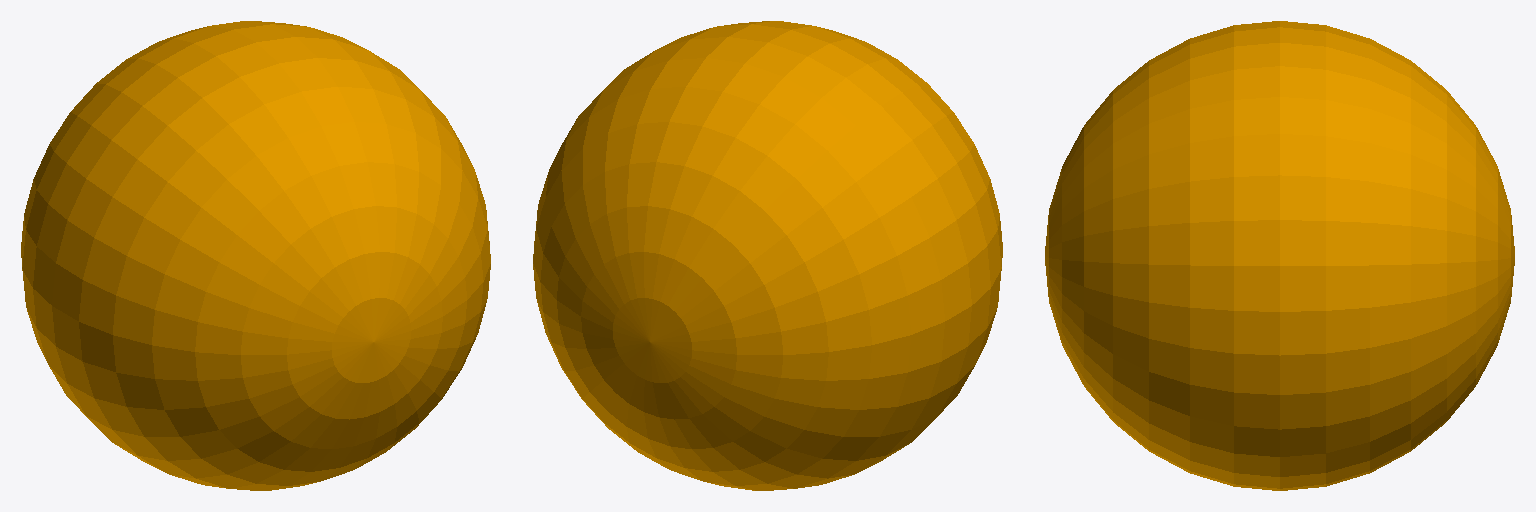
URDF robot description (lbr_iiwa):
<?xml version="1.0" ?>
<robot name="lbr_iiwa" xmlns:xacro="http://www.ros.org/wiki/xacro">
  <!-- Import Rviz colors -->
  <material name="Grey">
    <color rgba="0.2 0.2 0.2 1.0"/>
  </material>
  <material name="LightGrey">
    <color rgba="0.6 0.6 0.6 1.0"/>
  </material>
  <material name="Blue">
    <color rgba="0.5 0.7 1.0 1.0"/>
  </material>
  <material name="Orange">
    <color rgba="1.0 0.423529411765 0.0392156862745 1.0"/>
  </material>
  <!--Import the lbr iiwa macro -->
  <!--Import Transmissions -->
  <!--Include Utilities -->
  <!--The following macros are adapted from the LWR 4 definitions of the RCPRG - https://github.com/RCPRG-ros-pkg/lwr_robot -->
  <!--Little helper macros to define the inertia matrix needed for links.-->
  <!--Cuboid-->
  <!--Cylinder: length is along the y-axis! -->
  <!--lbr-->
  <link name="lbr_iiwa_link_0">
    <inertial>
      <origin rpy="0 0 0" xyz="-0.1 0 0.07"/>
      <!--Increase mass from 5 Kg original to provide a stable base to carry the
          arm.-->
      <mass value="0.01"/>
      <inertia ixx="0.05" ixy="0" ixz="0" iyy="0.06" iyz="0" izz="0.03"/>
    </inertial>
    <visual>
      <origin rpy="0 0 0" xyz="0 0 0"/>
      <geometry>
        <mesh filename="meshes/link_0.stl"/>
      </geometry>
      <material name="Grey"/>
    </visual>
    <collision>
      <origin rpy="0 0 0" xyz="0 0 0"/>
      <geometry>
        <mesh filename="meshes/link_0.stl"/>
      </geometry>
    </collision>
  </link>
  <!-- joint between link_0 and link_1 -->
  <joint name="lbr_iiwa_rjoint_1" type="revolute">
    <parent link="lbr_iiwa_link_0"/>
    <child link="lbr_iiwa_link_1"/>
    <origin rpy="0 0 0" xyz="0 0 0.1575"/>
    <axis xyz="0 0 1"/>
    <limit effort="30" lower="-2.96705972839" upper="2.96705972839" velocity="1"/>
    <dynamics damping="1"/>
  </joint>
  <link name="lbr_iiwa_link_1">
    <inertial>
      <origin rpy="0 0 0" xyz="0 -0.03 0.12"/>
      <mass value="4"/>
      <inertia ixx="0.1" ixy="0" ixz="0" iyy="0.09" iyz="0" izz="0.02"/>
    </inertial>
    <visual>
      <origin rpy="0 0 0" xyz="0 0 0"/>
      <geometry>
        <mesh filename="meshes/link_1.stl"/>
      </geometry>
      <material name="Blue"/>
    </visual>
    <collision>
      <origin rpy="0 0 0" xyz="0 0 0"/>
      <geometry>
        <mesh filename="meshes/link_1.stl"/>
      </geometry>
    </collision>
  </link>
  <!-- joint between link_1 and link_2 -->
  <joint name="lbr_iiwa_rjoint_2" type="revolute">
    <parent link="lbr_iiwa_link_1"/>
    <child link="lbr_iiwa_link_2"/>
    <origin rpy="1.57079632679   0 3.14159265359" xyz="0 0 0.2025"/>
    <axis xyz="0 0 1"/>
    <limit effort="30" lower="-1.91008833338" upper="0.610167106497" velocity="1"/>
    <dynamics damping="1"/>
  </joint>
  <link name="lbr_iiwa_link_2">
    <inertial>
      <origin rpy="0 0 0" xyz="0.0003 0.059 0.042"/>
      <mass value="4"/>
      <inertia ixx="0.05" ixy="0" ixz="0" iyy="0.018" iyz="0" izz="0.044"/>
    </inertial>
    <visual>
      <origin rpy="0 0 0" xyz="0 0 0"/>
      <geometry>
        <mesh filename="meshes/link_2.stl"/>
      </geometry>
      <material name="Blue"/>
    </visual>
    <collision>
      <origin rpy="0 0 0" xyz="0 0 0"/>
      <geometry>
        <mesh filename="meshes/link_2.stl"/>
      </geometry>
    </collision>
  </link>

  <!-- joint between link_2 and link_3 -->
  <joint name="lbr_iiwa_rjoint_3" type="revolute">
    <parent link="lbr_iiwa_link_2"/>
    <child link="lbr_iiwa_link_3"/>
    <origin rpy="1.57079632679 0 3.14159265359" xyz="0 0.2045 0"/>
    <axis xyz="0 0 1"/>
    <limit effort="30" lower="-1.34006379968" upper="1.57009819509" velocity="1"/>
    <dynamics damping="1"/>
  </joint>
  <link name="lbr_iiwa_link_3">
    <inertial>
      <origin rpy="0 0 0" xyz="0 0.03 0.13"/>
      <mass value="3"/>
      <inertia ixx="0.08" ixy="0" ixz="0" iyy="0.075" iyz="0" izz="0.01"/>
    </inertial>
    <visual>
      <origin rpy="0 0 0" xyz="0 0 0"/>
      <geometry>
        <mesh filename="meshes/link_3.stl"/>
      </geometry>
      <material name="Orange"/>
    </visual>
    <collision>
      <origin rpy="0 0 0" xyz="0 0 0"/>
      <geometry>
        <mesh filename="meshes/link_3.stl"/>
      </geometry>
    </collision>
  </link>
  <!-- joint between link_3 and link_4 -->
  <joint name="lbr_iiwa_rjoint_4" type="revolute">
    <parent link="lbr_iiwa_link_3"/>
    <child link="lbr_iiwa_link_4"/>
    <origin rpy="1.57079632679 0 0" xyz="0 0 0.2155"/>
    <axis xyz="0 0 1"/>
    <limit effort="30" lower="-2.09003177926" upper="2.09003177926" velocity="1"/>
    <dynamics damping="1"/>
  </joint>
  <link name="lbr_iiwa_link_4">
    <inertial>
      <origin rpy="0 0 0" xyz="0 0.067 0.034"/>
      <mass value="2.7"/>
      <inertia ixx="0.03" ixy="0" ixz="0" iyy="0.01" iyz="0" izz="0.029"/>
    </inertial>
    <visual>
      <origin rpy="0 0 0" xyz="0 0 0"/>
      <geometry>
        <mesh filename="meshes/link_4.stl"/>
      </geometry>
      <material name="Blue"/>
    </visual>
    <collision>
      <origin rpy="0 0 0" xyz="0 0 0"/>
      <geometry>
        <mesh filename="meshes/link_4.stl"/>
      </geometry>
    </collision>
  </link>
  <!-- joint between link_4 and link_5 -->
  <joint name="lbr_iiwa_rjoint_5" type="revolute">
    <parent link="lbr_iiwa_link_4"/>
    <child link="lbr_iiwa_link_5"/>
    <origin rpy="-1.57079632679 3.14159265359 0" xyz="0 0.1845 0"/>
    <axis xyz="0 0 1"/>
    <limit effort="30" lower="-1.92003671012" upper="1.05016461093" velocity="1"/>
    <dynamics damping="1"/>
  </joint>
  <link name="lbr_iiwa_link_5">
    <inertial>
      <origin rpy="0 0 0" xyz="0.0001 0.021 0.076"/>
      <mass value="1.7"/>
      <inertia ixx="0.02" ixy="0" ixz="0" iyy="0.018" iyz="0" izz="0.005"/>
    </inertial>
    <visual>
      <origin rpy="0 0 0" xyz="0 0 0"/>
      <geometry>
        <mesh filename="meshes/link_5.stl"/>
      </geometry>
      <material name="Blue"/>
    </visual>
    <collision>
      <origin rpy="0 0 0" xyz="0 0 0"/>
      <geometry>
        <mesh filename="meshes/link_5.stl"/>
      </geometry>
    </collision>
  </link>
  <!-- joint between link_5 and link_6 -->
  <joint name="lbr_iiwa_rjoint_6" type="revolute">
    <parent link="lbr_iiwa_link_5"/>
    <child link="lbr_iiwa_link_6"/>
    <origin rpy="1.57079632679 0 0" xyz="0 0 0.2155"/>
    <axis xyz="0 0 1"/>
    <limit effort="30" lower="-2.53002928369" upper="2.53002928369" velocity="1"/>
    <dynamics damping="1"/>
  </joint>
  <link name="lbr_iiwa_link_6">
    <inertial>
      <origin rpy="0 0 0" xyz="0 0.0006 0.0004"/>
      <mass value="1.8"/>
      <inertia ixx="0.005" ixy="0" ixz="0" iyy="0.0036" iyz="0" izz="0.0047"/>
    </inertial>
    <visual>
      <origin rpy="0 0 0" xyz="0 0 0"/>
      <geometry>
        <mesh filename="meshes/link_6.stl"/>
      </geometry>
      <material name="Orange"/>
    </visual>
    <collision>
      <origin rpy="0 0 0" xyz="0 0 0"/>
      <geometry>
        <mesh filename="meshes/link_6.stl"/>
      </geometry>
    </collision>
  </link>

  <!-- Attach the base of the gripper to the end of the arm -->
    <joint name='gripper_joint' type='fixed'>
      <parent link="lbr_iiwa_link_6"/>
      <child link="gripper"/>
    </joint>

  <link name='gripper'> <!--base_link-->
    <inertial>
      <origin rpy="0 0 0" xyz="0 0 0"/>
      <mass value="0.2"/>
      <inertia ixx="1" ixy="0" ixz="0" iyy="1" iyz="0" izz="1"/>
    </inertial>
    <visual>
      <origin rpy="1.57 0 1.57" xyz="0 0 0.045"/>
      <geometry> 
        <mesh filename="meshes/base_old.stl" scale=".001 .001 .001"/>
      </geometry>
      <material name="LightGrey"/>
    </visual>
    <collision>
      <origin rpy="1.57 0 1.57" xyz="0 0 0.045"/>
      <geometry>
        <mesh filename="meshes/base_old.stl" scale=".001 .001 .001"/>
      </geometry>
    </collision>
  </link>
    <joint name="endeffector_joint" type="fixed">
    <parent link="gripper"/>
    <child link="endeffector"/>
    <origin rpy="0 0 0" xyz="0 0.0 0.15"/>
  </joint>
  <link name="endeffector">
  <inertial>
      <origin rpy="0 0 0" xyz="0 0 0"/>
      <mass value="0"/>
      <inertia ixx="1" ixy="0" ixz="0" iyy="1" iyz="0" izz="1"/>
    </inertial>
    <visual>
      <origin rpy="0 0 0" xyz="0 0.0 0.0"/>
      <geometry>
        <sphere radius="0.01"/>
      </geometry>
      <material name="Lightgrey"/>
    </visual>
  </link>
    <joint name='collet_joint' type='fixed'>
      <parent link="gripper"/>
      <child link="collet"/>
    </joint>

  <link name="collet">
    <inertial>
      <origin rpy="0.0 0 0" xyz="0 0.0 0.0"/>
      <mass value="0.2"/>
      <inertia ixx="0.1" ixy="0" ixz="0" iyy="0.1" iyz="0" izz="0.1"/>
    </inertial>
    <visual>
      <origin rpy="1.57 0 0" xyz="0 0.0 0.04"/>
      <geometry> 
        <mesh filename="meshes/collet_old.stl" scale=".001 .001 .001"/>
      </geometry>
      <material name="LightGrey"/>
    </visual>
    <collision>
      <origin rpy="1.57 0 0" xyz="0 0.0 0.04"/>
      <geometry>
        <mesh filename="meshes/collet_old.stl" scale=".001 .001 .001"/>
      </geometry>
    </collision>
  </link>

    <joint name="slider_joint" type='fixed'>
      <parent link="collet"/>
      <child link="slider"/>
      <origin rpy="0 0 0" xyz="0 0.0 0"/>
      <axis xyz="0 0 1"/>
      <limit effort="0" lower="0.0" upper="0.025" velocity="0"/>
      <dynamics damping="1"/>
    </joint>

  <link name="slider">
    <inertial>
      <origin rpy="0 0 0" xyz="0.0 0.0 0.0"/>
      <mass value="0.2"/>
      <inertia ixx="0.1" ixy="0" ixz="0" iyy="0.1" iyz="0" izz="0.1"/>
    </inertial>
    <visual>
      <origin rpy="1.57 0 0" xyz="0 0 0.048"/>
      <geometry> 
        <mesh filename="meshes/slider_old.stl" scale=".001 .001 .001"/>
      </geometry>
      <material name="LightGrey"/>
    </visual>
    <collision>
      <origin rpy="1.57 0 0" xyz="0 0 0.048"/>
      <geometry>
        <mesh filename="meshes/slider_old.stl" scale=".001 .001 .001"/>
      </geometry>
    </collision>
  </link>

    <joint name="sensor_joint" type='fixed'>
      <parent link="slider"/>
      <child link="sensor"/>
    </joint>

  <link name="sensor">
    <inertial>
      <origin rpy="0.0 0 0" xyz="0.0 0.0 0.0"/>
      <mass value="0.2"/>
      <inertia ixx="0.1" ixy="0" ixz="0" iyy="0.1" iyz="0" izz="0.1"/>
    </inertial>
    <visual>
      <origin rpy="1.57 0 0" xyz="0 0 0.049"/>
      <geometry> 
        <mesh filename="meshes/sensor_old.stl" scale="0.001 0.001 0.001"/>
      </geometry>
      <material name="LightGrey"/>
    </visual>
    <collision>
      <origin rpy="1.57 0 0" xyz="0 0 0.049"/>
      <geometry>
        <mesh filename="meshes/sensor_old.stl" scale="0.001 0.001 0.001"/>
      </geometry>
    </collision>
  </link>
<!---->
  </robot>

--- Facts derived from the render (not from the file) ---
3 views of the same robot in one strip: view 1: azimuth 30°, elevation 25°; view 2: azimuth 150°, elevation 25°; view 3: azimuth 270°, elevation 25° (orthographic).
Model lbr_iiwa with 12 links and 11 joints (6 revolute, 5 fixed), rooted at lbr_iiwa_link_0, posed every joint at zero.
Links seen in each view (by area): view 1: endeffector; view 2: endeffector; view 3: endeffector.
Link boxes in pixels (<box>): endeffector: <box>21,21,490,490</box>; endeffector: <box>533,21,1002,490</box>; endeffector: <box>1045,21,1514,490</box>.
Size in the robot's own frame: 0.02 by 0.02 by 0.02 metres.
0 mesh visuals loaded from 11 distinct referenced files (none loaded); not drawn: 11 (reference not matched to a file when rendering).